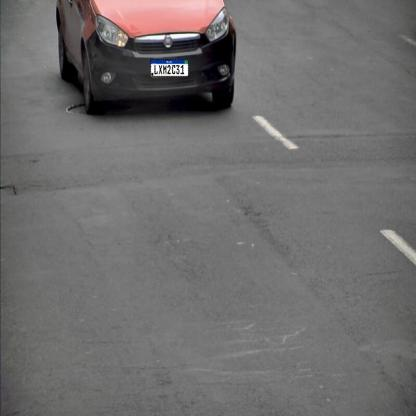PlacaM: (150, 59, 189, 77)
